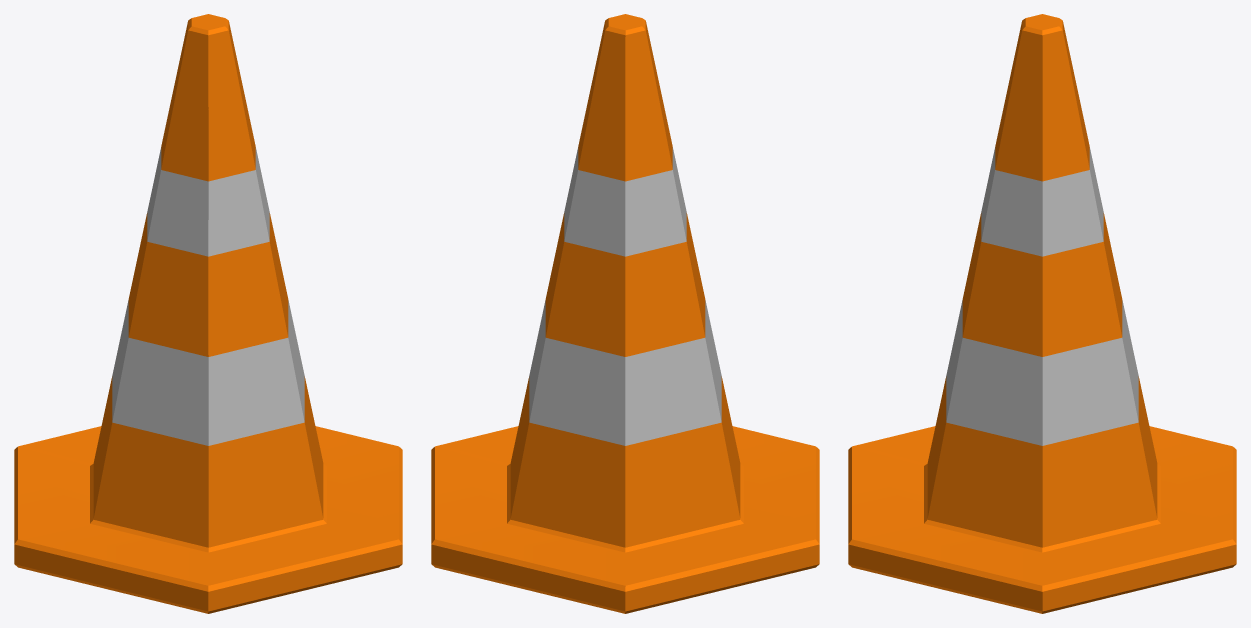
File: model_traffic_cone.fbx
The picture shows the model from 3 angles, left to right: view 1: azimuth 30°, elevation 25°; view 2: azimuth 150°, elevation 25°; view 3: azimuth 270°, elevation 25°; orthographic projection.
Parts seen in each view (by area): view 1: model_traffic_cone; view 2: model_traffic_cone; view 3: model_traffic_cone.
Boxes of the visible parts, <box> form: model_traffic_cone: <box>14,14,402,613</box>; model_traffic_cone: <box>431,14,819,613</box>; model_traffic_cone: <box>848,14,1236,613</box>.
Bounding box in the file's own units: 89.5 × 110 × 77.51.
Materials: 1 (1 with a texture image).
